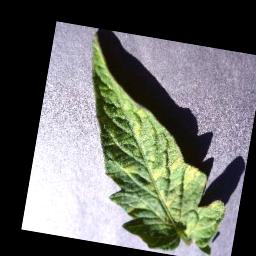Leaf_Mold: (163, 153, 204, 193), (149, 166, 162, 182)
